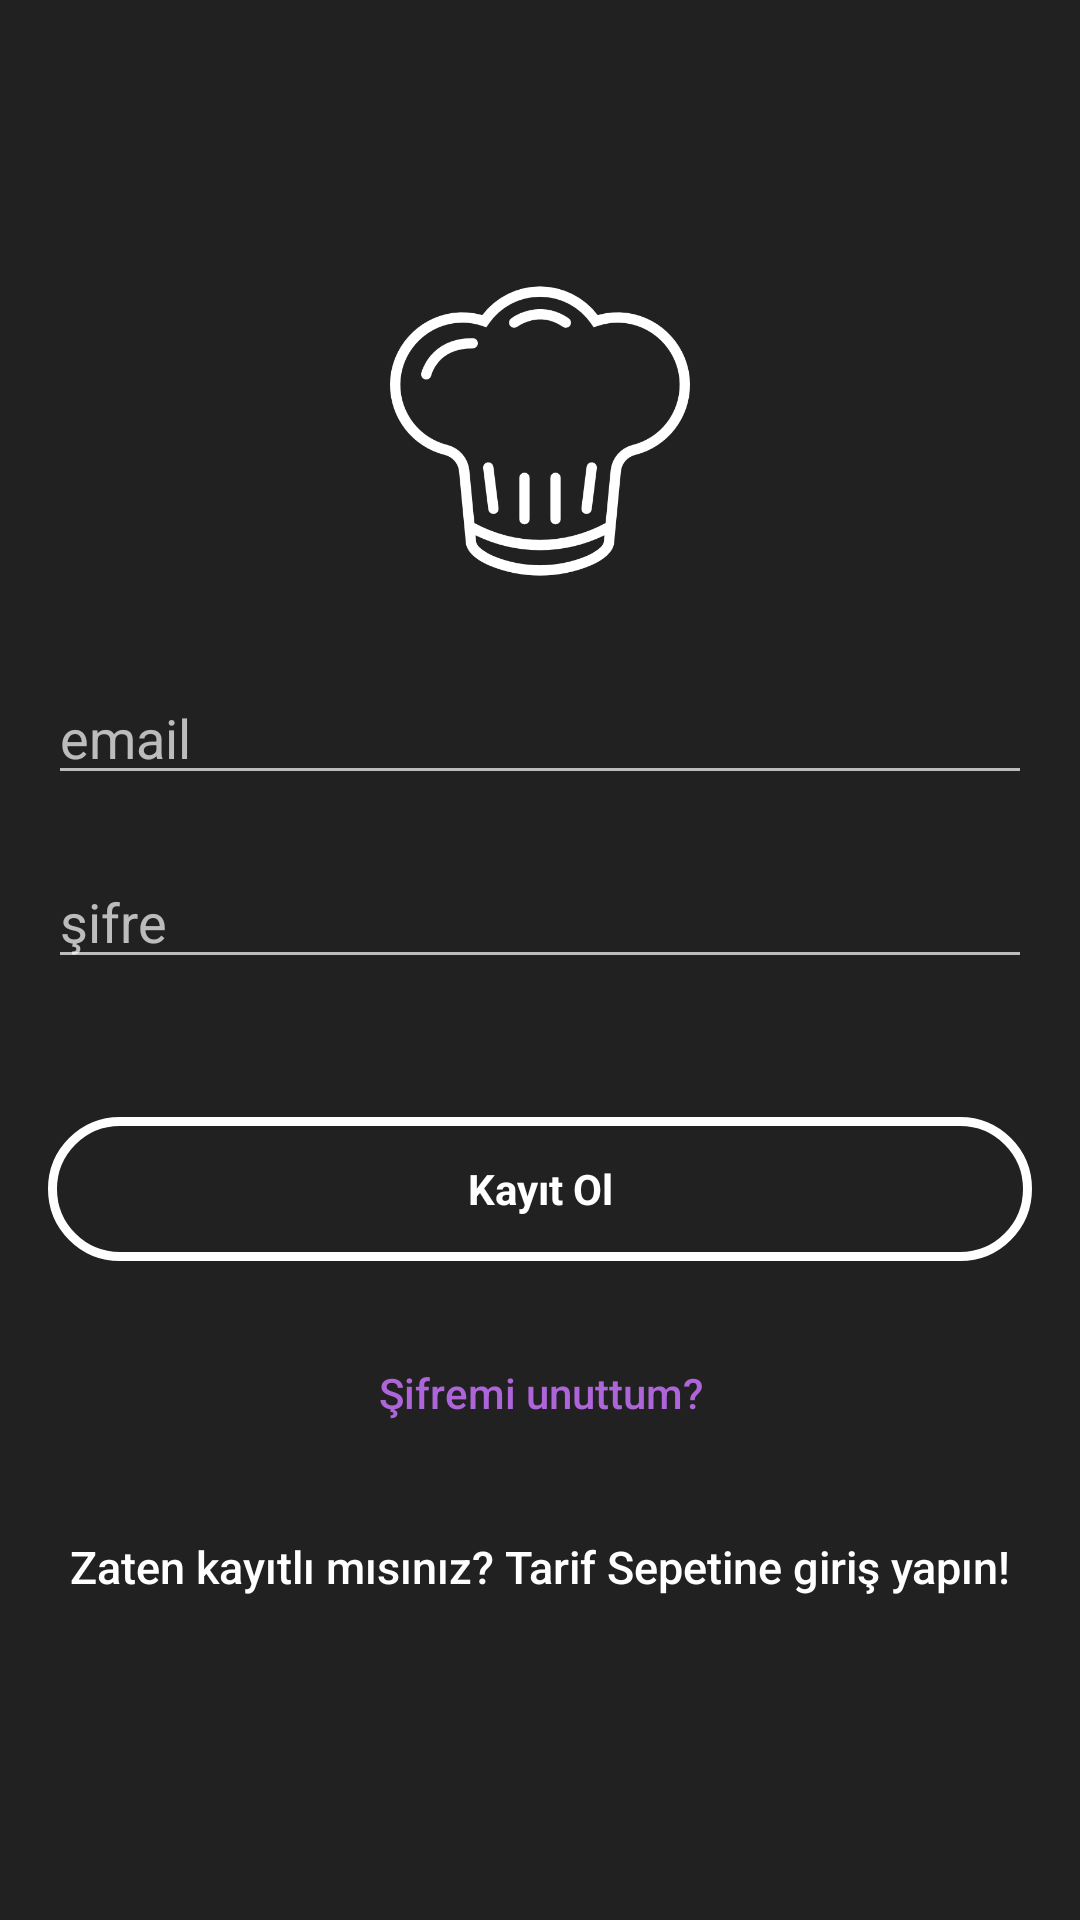

Icons on this 1080px×1920px Android screen, each with the point to tap as point (x, y):
chef: point (540, 431)
